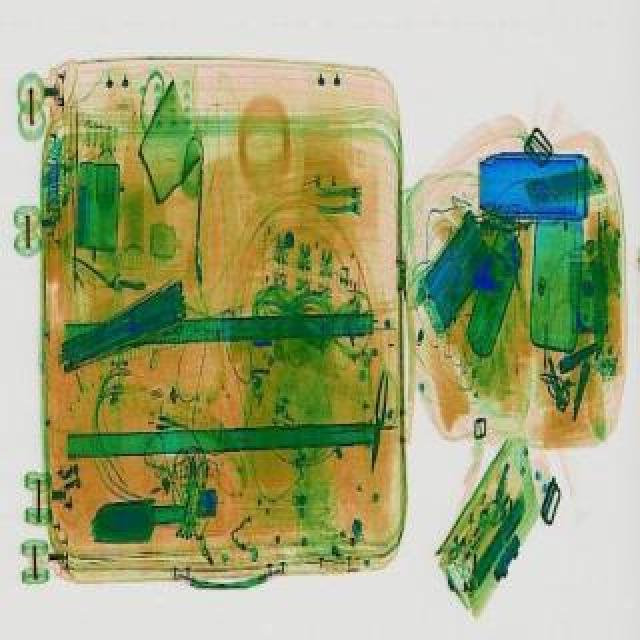knife: (366, 366, 394, 470)
